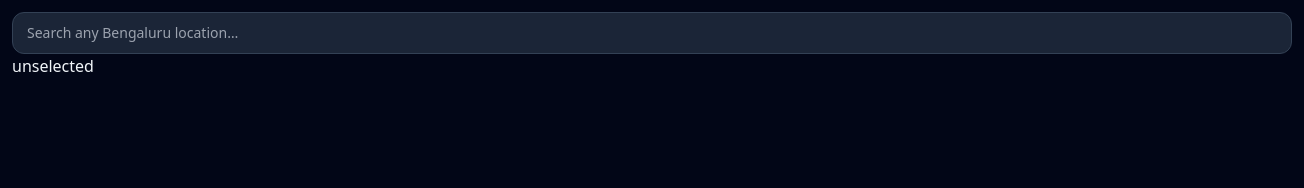
Test: LocationSearch › requires three characters and debounces requests for 300ms
Type "Ko" into the dropdown.
click(652, 33); type("Ko")  # box top-left (12, 12), bottom-right (1292, 54)
Wait 500 ms
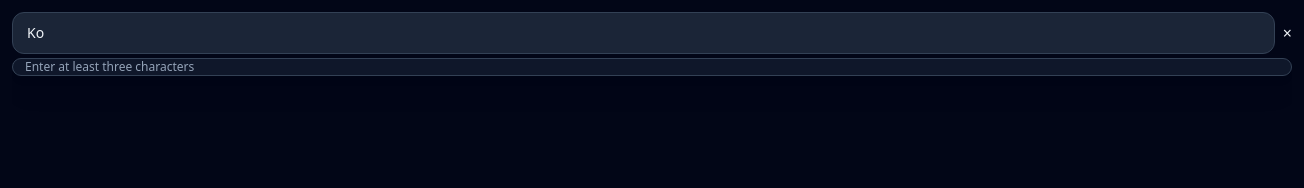
Replace the text in the dropdown with "Kodi" at (643, 33), box top-left (12, 12), bottom-right (1275, 54)
Wait 300 ms
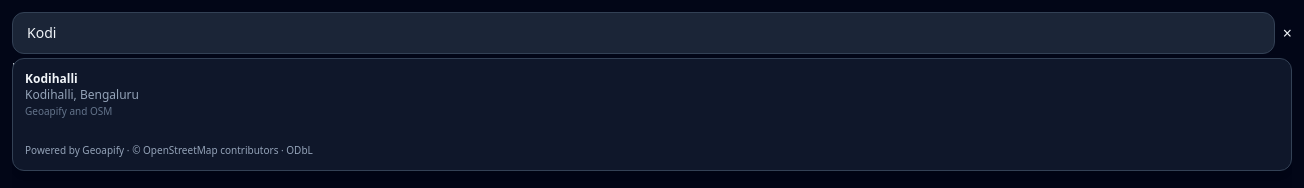
expect the number of options is 1: met, box top-left (25, 70), bottom-right (139, 118)
